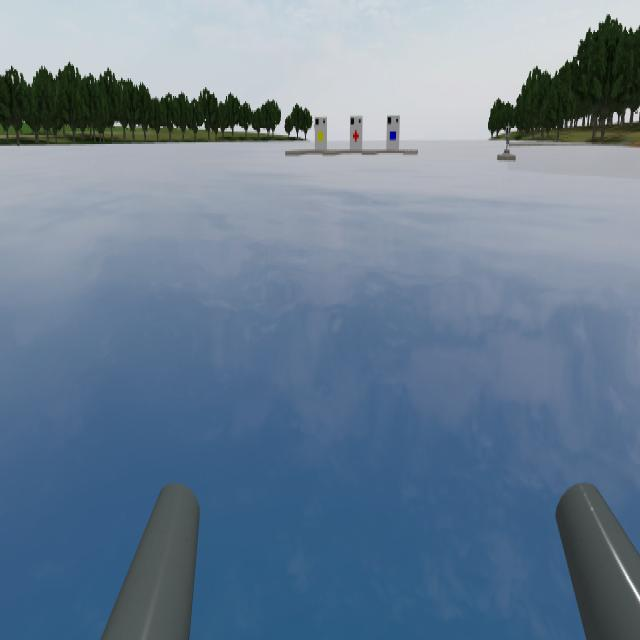black_pole: (502, 124, 513, 142)
